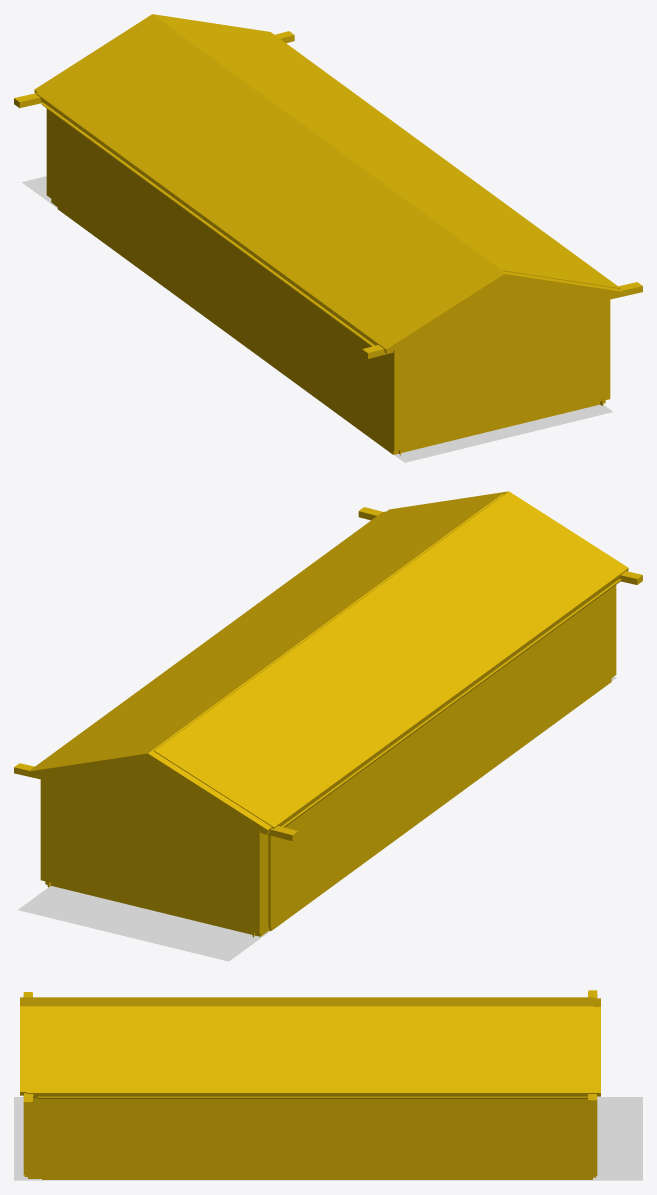
The model's file is songjiang.glb.
3 renders of one model, top to bottom at view 1: azimuth 30°, elevation 25°; view 2: azimuth 150°, elevation 25°; view 3: azimuth 270°, elevation 25°, orthographic. The views are drawn at different scales.
Parts seen in each view (by area): view 1: AirHangar, AirHangar.001, Plane.001; view 2: AirHangar, AirHangar.001, Plane.001; view 3: AirHangar.001, AirHangar, Plane.001.
Part boxes in pixels (bbox=[...]): AirHangar: bbox=[14, 17, 622, 455]; AirHangar.001: bbox=[34, 14, 642, 358]; Plane.001: bbox=[22, 176, 612, 462]; AirHangar: bbox=[14, 491, 628, 930]; AirHangar.001: bbox=[28, 494, 642, 937]; Plane.001: bbox=[18, 676, 616, 961]; AirHangar.001: bbox=[23, 992, 600, 1179]; AirHangar: bbox=[20, 990, 597, 1178]; Plane.001: bbox=[14, 1097, 642, 1180].
Size of the model in its own units: 14.71 by 8.12 by 35.
